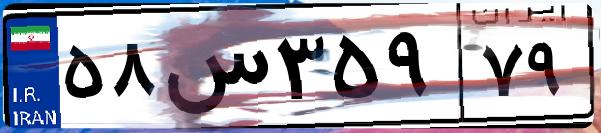3: (270, 28, 330, 110)
5: (330, 28, 385, 110), (57, 26, 110, 100)
7: (475, 38, 525, 113)
8: (110, 28, 158, 98)
9: (385, 28, 445, 110), (525, 38, 570, 115)
س: (158, 20, 270, 120)
